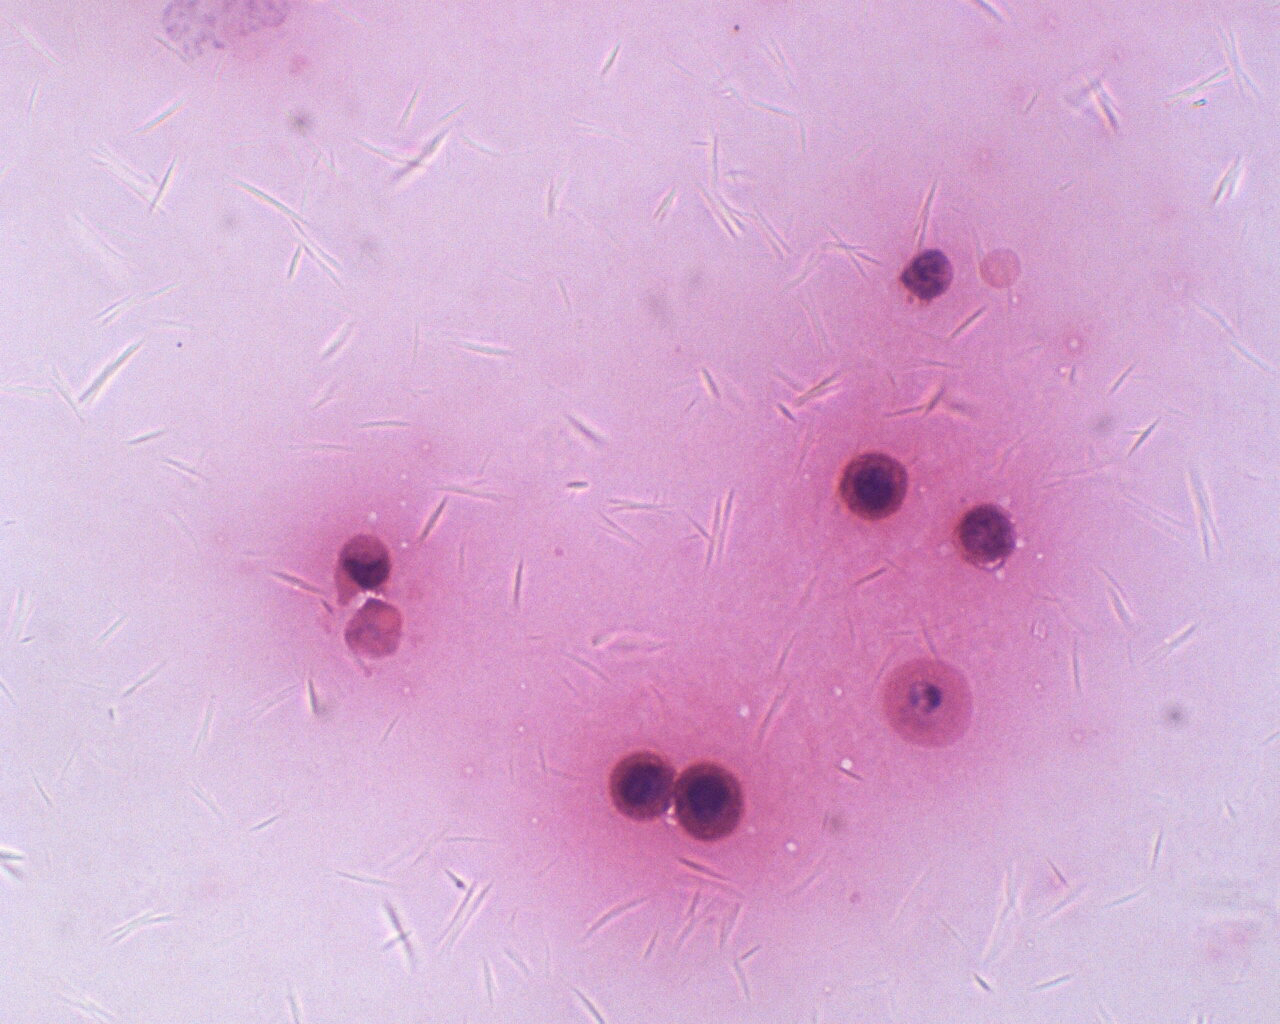ab: (953, 501, 1022, 572)
histo: (880, 655, 978, 751)
meso: (666, 752, 751, 844), (833, 448, 913, 525), (601, 743, 673, 825)
